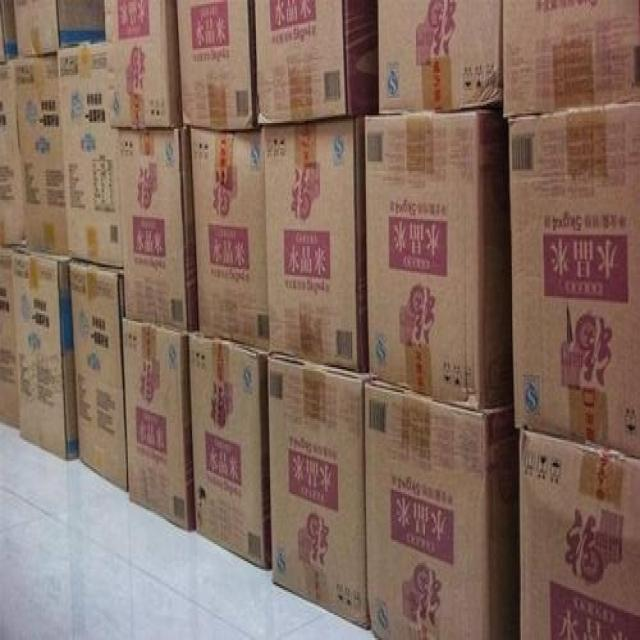box: (509, 102, 640, 459), (364, 108, 511, 409), (366, 379, 515, 640), (266, 357, 369, 628), (260, 119, 366, 375), (518, 429, 640, 640), (189, 332, 270, 573), (189, 129, 269, 352), (118, 127, 198, 331), (502, 0, 640, 117), (253, 0, 378, 127), (123, 317, 195, 532), (378, 0, 502, 115), (58, 40, 120, 269), (14, 246, 78, 459), (69, 259, 128, 490), (17, 54, 69, 258), (101, 0, 182, 129), (175, 0, 253, 127), (12, 0, 104, 56), (0, 62, 20, 248), (0, 246, 18, 432), (0, 0, 19, 67)
